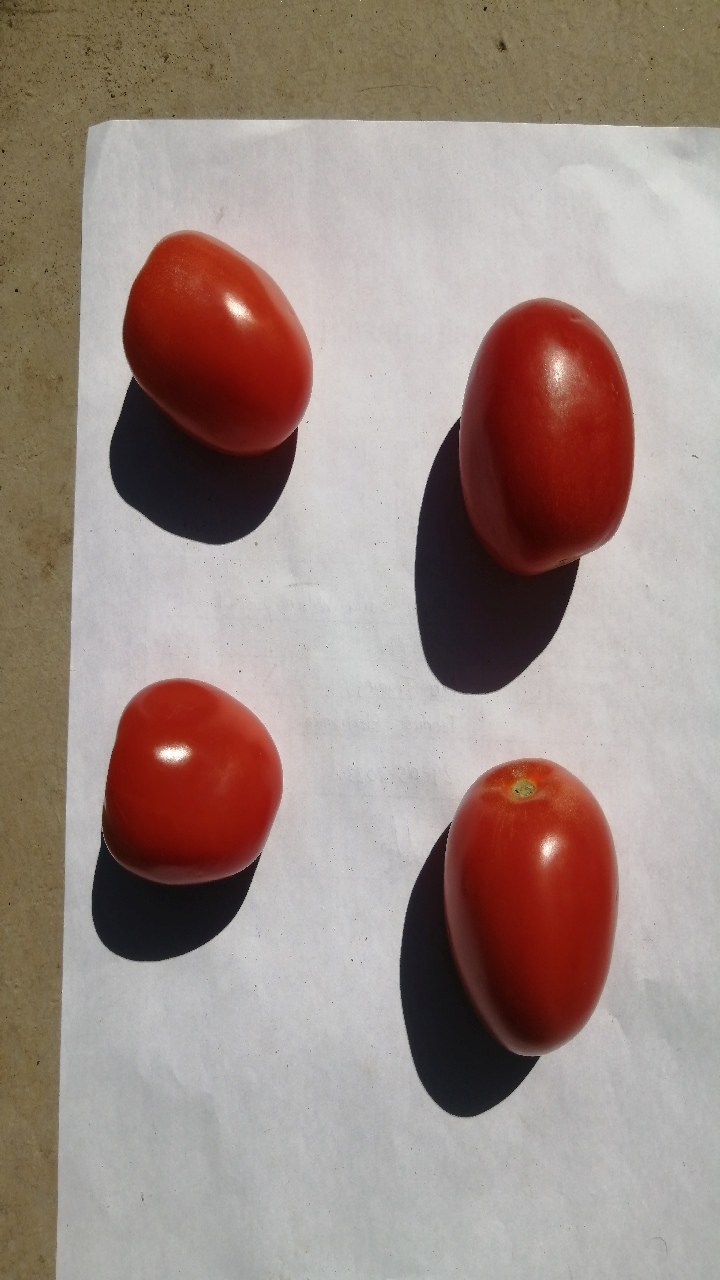tomateRojo: (412, 732, 623, 1077), (448, 268, 657, 605), (89, 646, 304, 920), (115, 226, 326, 474)
